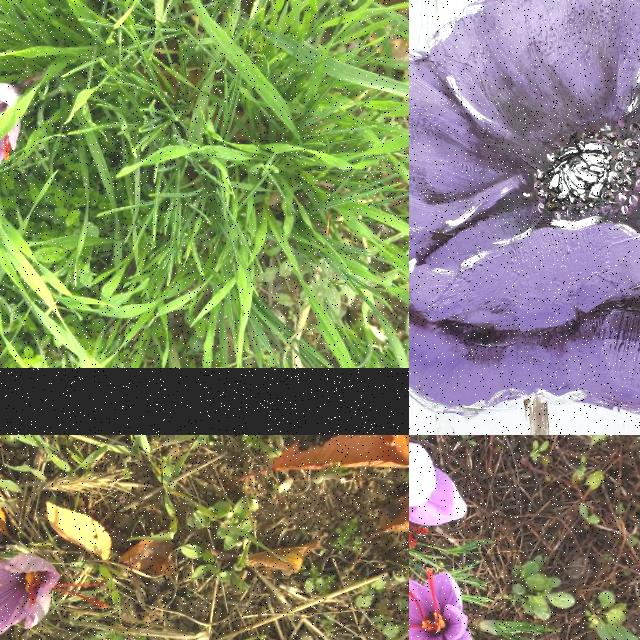flower: (0, 553, 107, 637), (409, 443, 468, 569), (409, 569, 474, 640), (0, 83, 24, 191)
